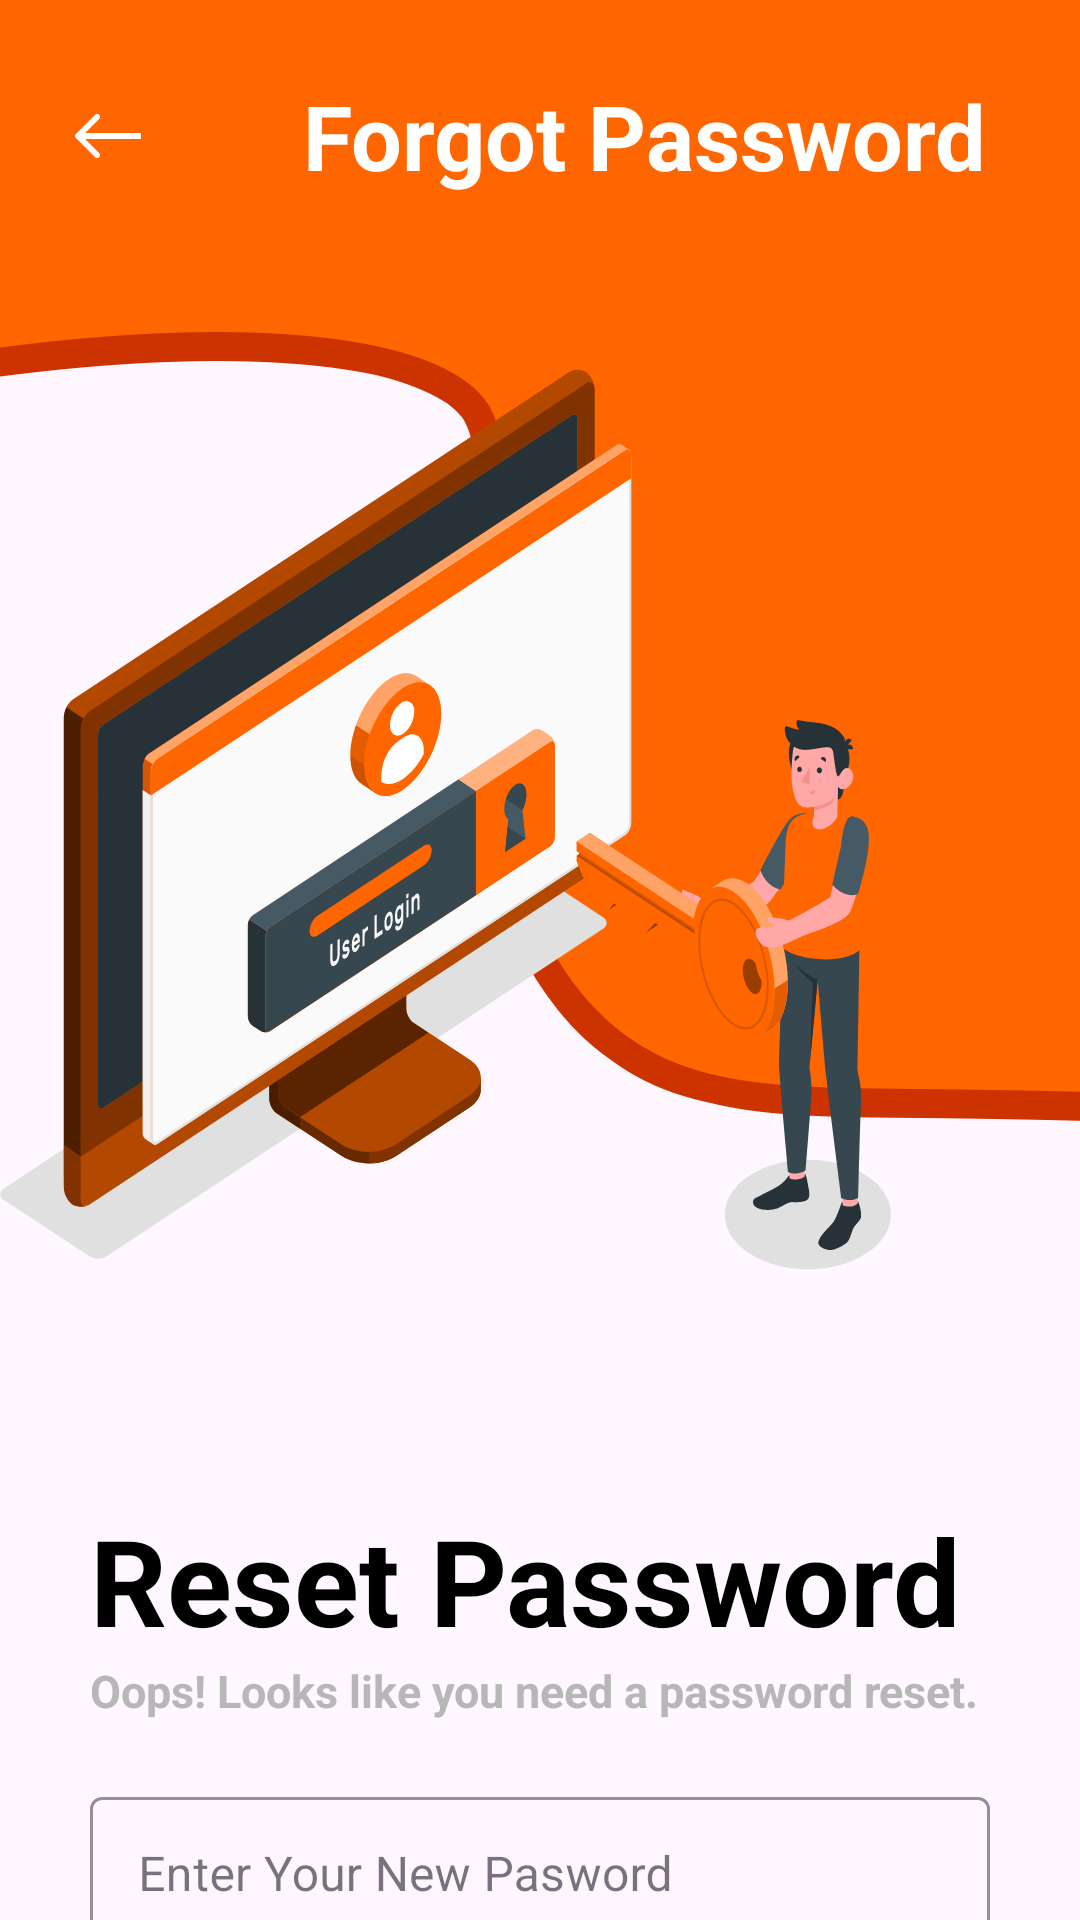

Named icons in this screenshot (1080 × 1920) and their bounding boxes, (x1, y1, x2, y2):
arrowback: (75, 114, 141, 158)
